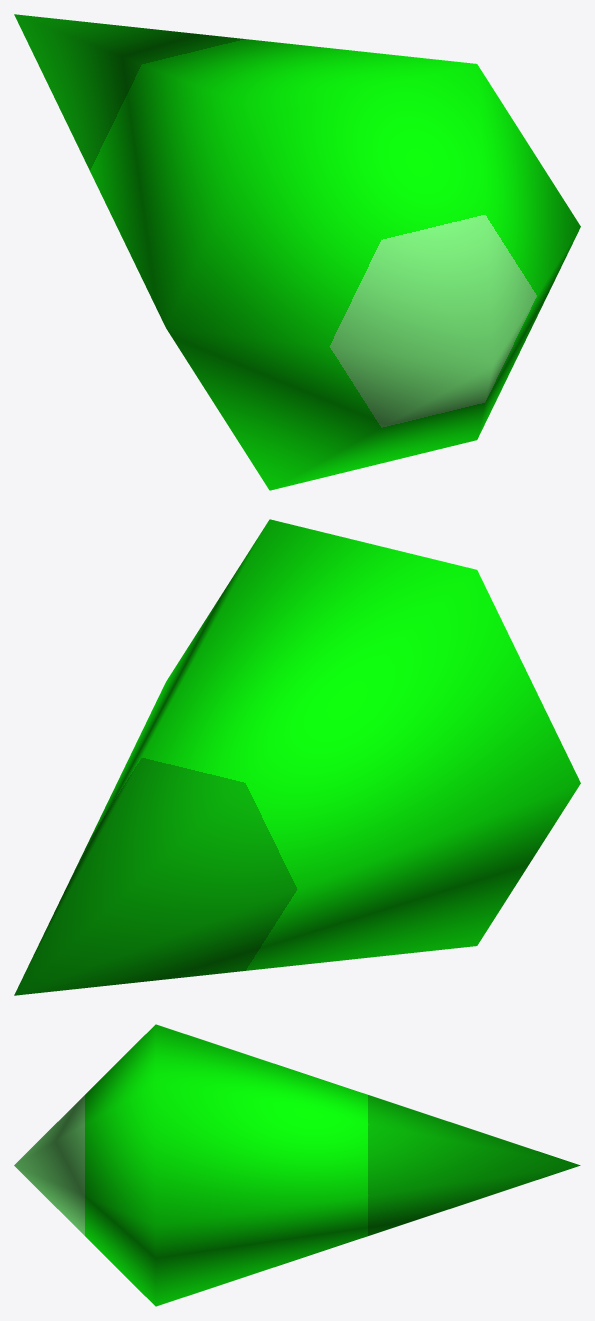
File: projectile.obj
3 renders of one model, top to bottom at view 1: azimuth 30°, elevation 25°; view 2: azimuth 150°, elevation 25°; view 3: azimuth 270°, elevation 25°, orthographic. The views are drawn at different scales.
Visible parts, largest first — view 1: projectile; view 2: projectile; view 3: projectile.
Boxes of the visible parts, left/top/right/bottom form: projectile: left=14, top=14, right=580, bottom=490; projectile: left=14, top=519, right=580, bottom=995; projectile: left=14, top=1024, right=580, bottom=1306.
Size of the model in its own units: 0.2 by 0.1732 by 0.4.
1 material, 1 textured.
